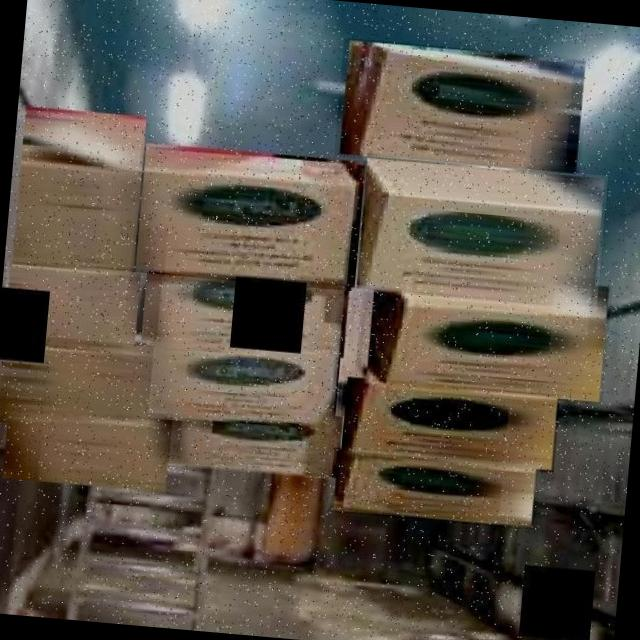box: (350, 154, 607, 312), (128, 140, 367, 291), (334, 38, 588, 178), (361, 264, 612, 404), (7, 104, 146, 278), (337, 376, 560, 472), (140, 334, 342, 438), (136, 264, 353, 360), (328, 447, 538, 530), (0, 400, 172, 494), (0, 333, 153, 436), (161, 400, 344, 480), (0, 260, 142, 357)
